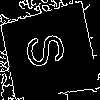S: (24, 28, 75, 71)
